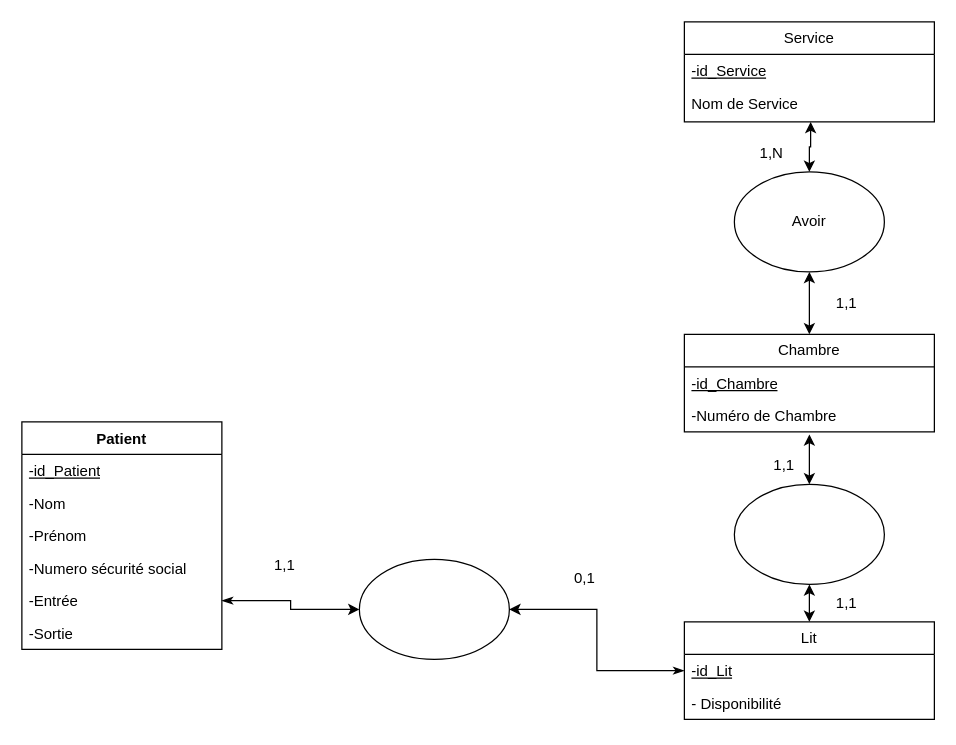
Image size: 956x745. Some labels were removed from this diagram. Each missing label, with the centre of its shape:
Assigner: the point at 433,608
Utiliser: the point at 808,533
